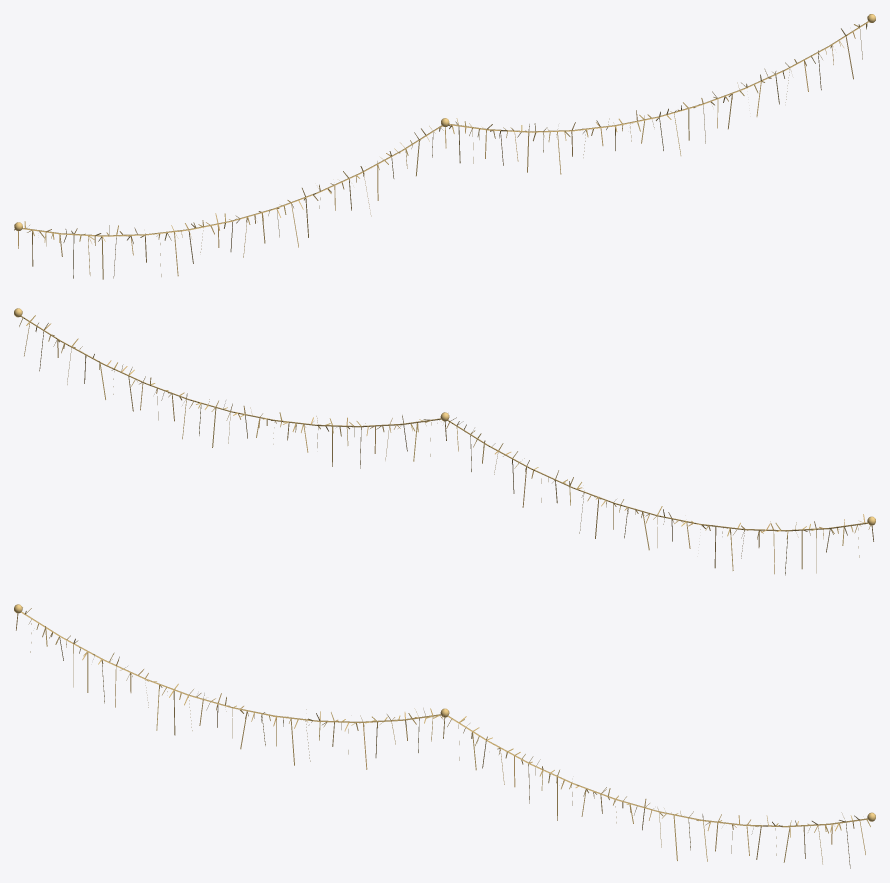
The model's file is prop_schmuck_tinsel_1.glb.
3 renders of one model, top to bottom at view 1: azimuth 30°, elevation 25°; view 2: azimuth 150°, elevation 25°; view 3: azimuth 330°, elevation 25°, orthographic.
Visible parts, largest first — view 1: tinsel_0_mesh; view 2: tinsel_0_mesh; view 3: tinsel_0_mesh.
Part boxes in pixels (bbox=[...]): tinsel_0_mesh: bbox=[14, 21, 868, 279]; tinsel_0_mesh: bbox=[19, 315, 873, 575]; tinsel_0_mesh: bbox=[16, 608, 870, 868].
Bounding box in the file's own units: 2.58 × 0.2689 × 0.0586.
